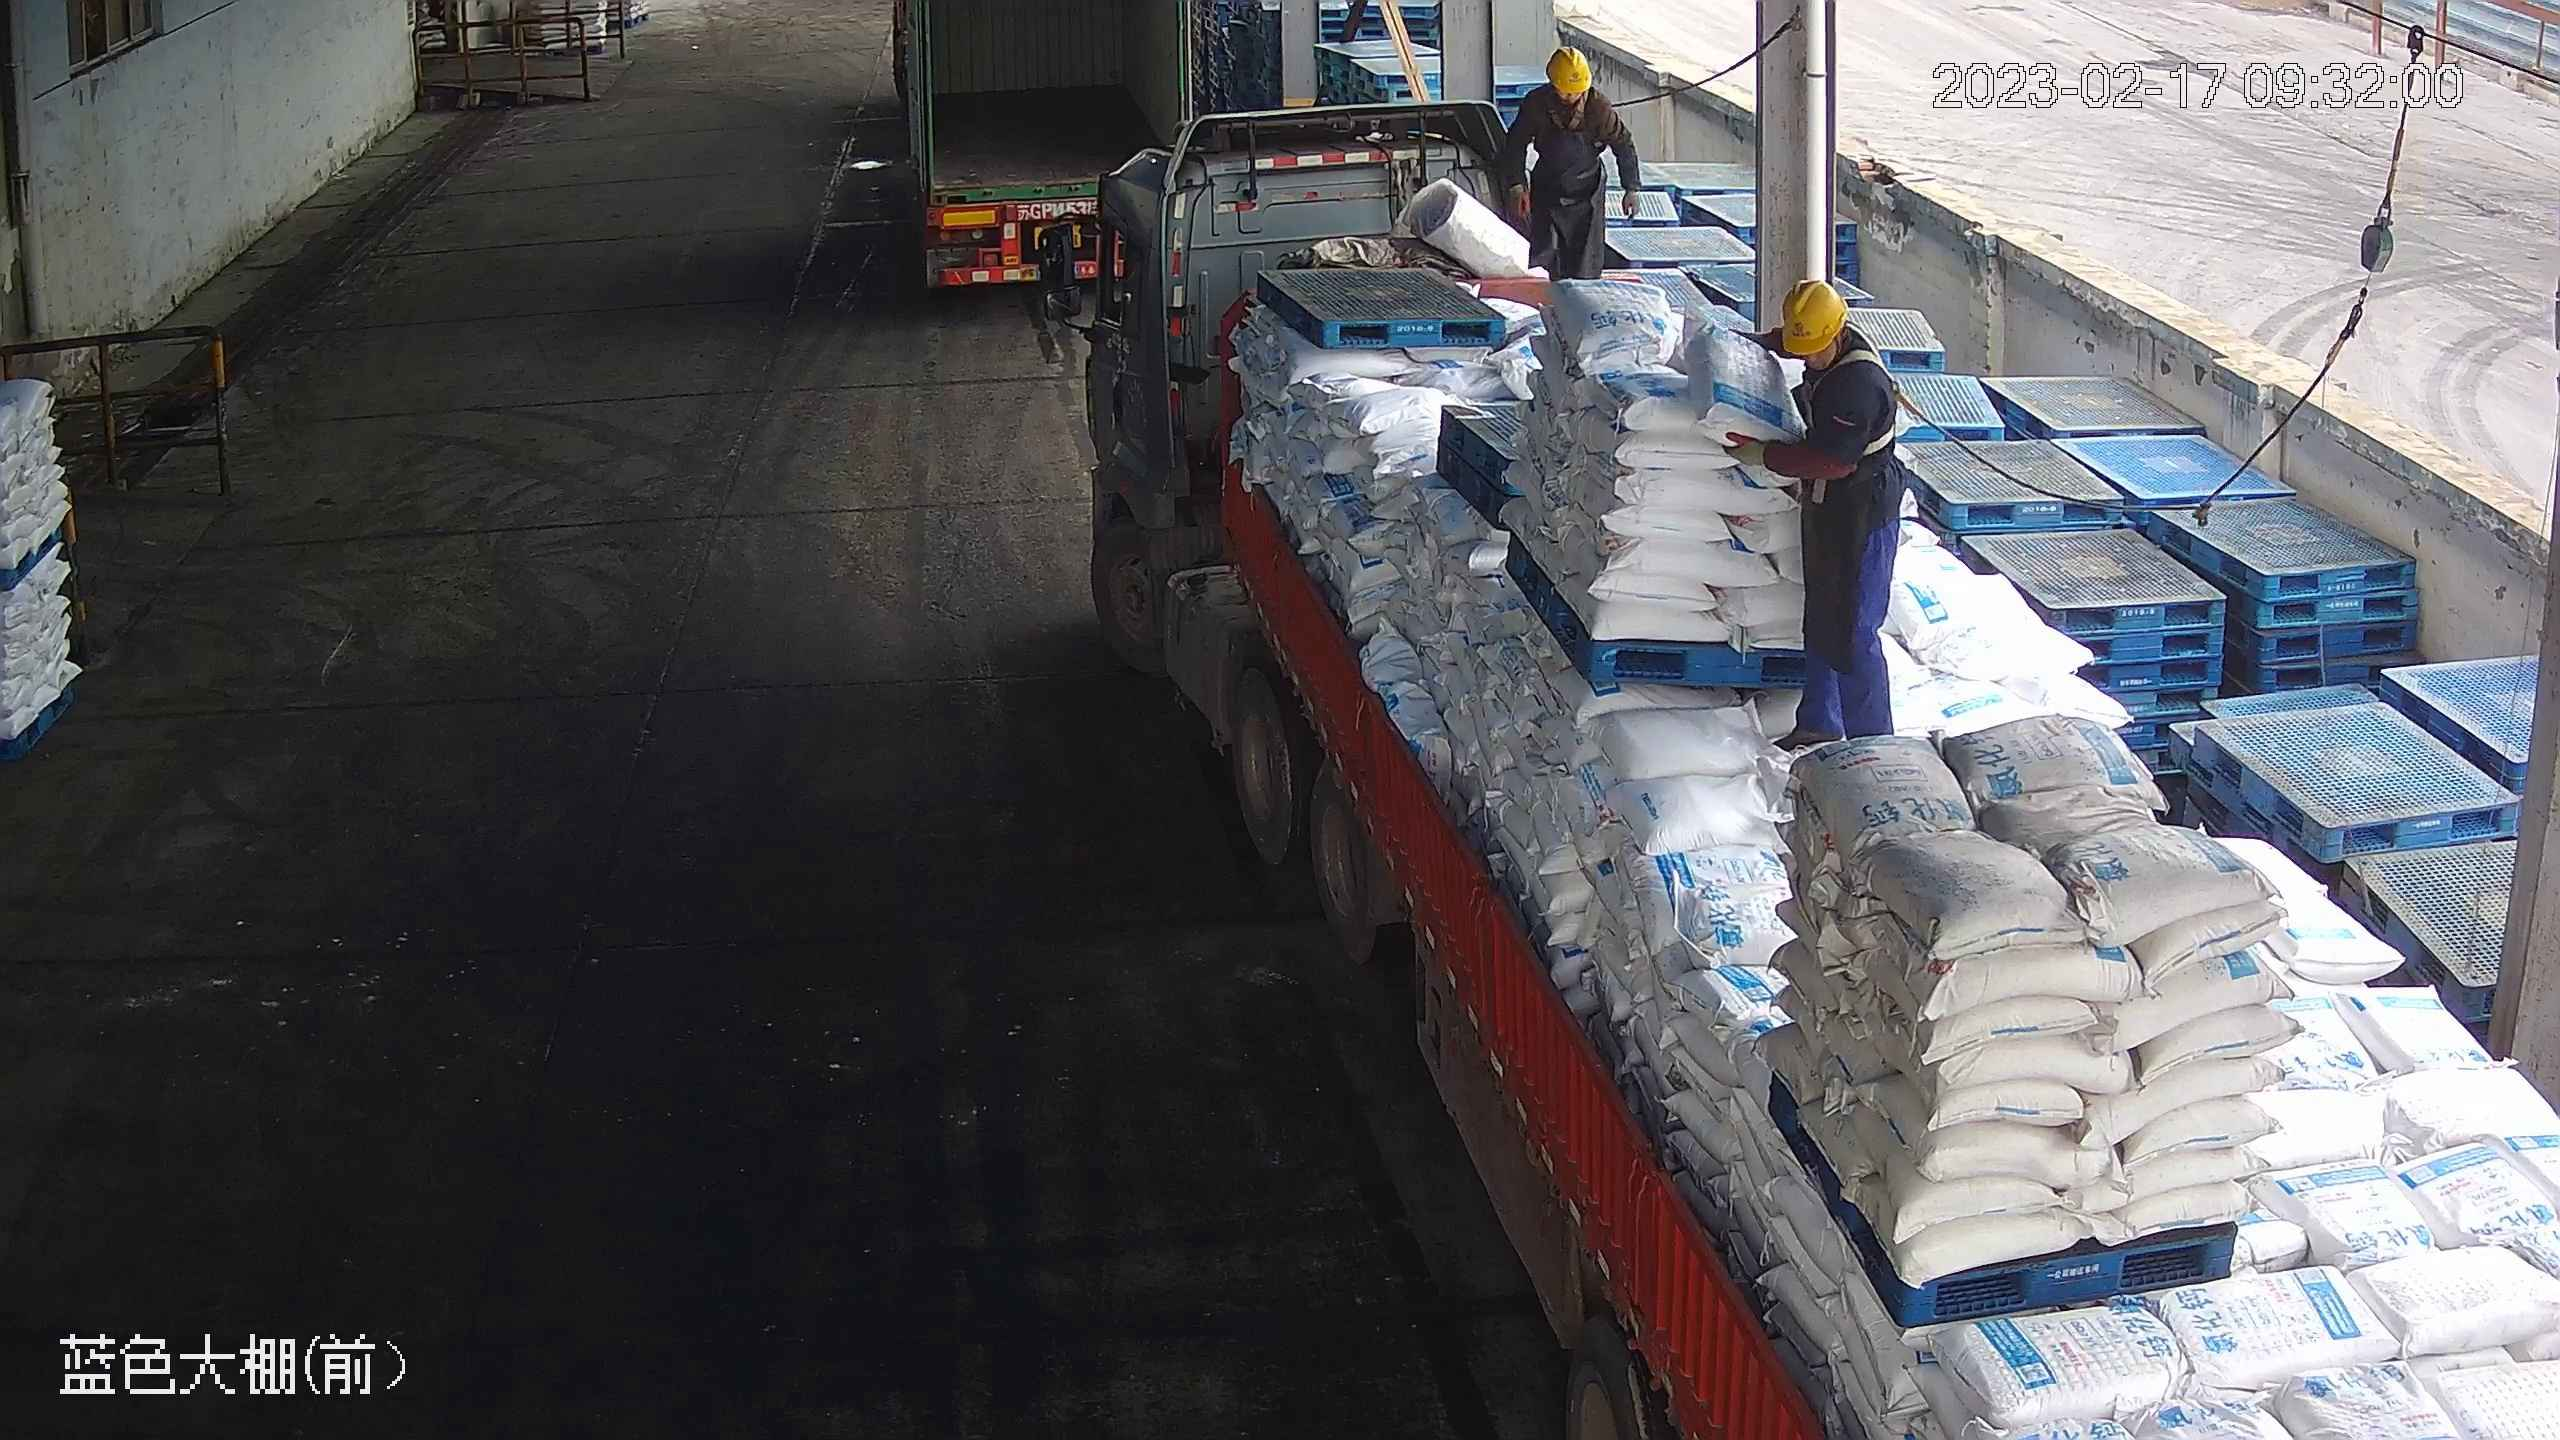belt: (1802, 323, 1901, 453), (1539, 89, 1628, 130)
head: (1779, 278, 1900, 407), (1520, 48, 1620, 131)
helmet: (1780, 279, 1849, 355), (1544, 45, 1592, 93)
people: (1722, 277, 1909, 756), (1498, 44, 1643, 282)
truck: (1085, 104, 2560, 1440)
